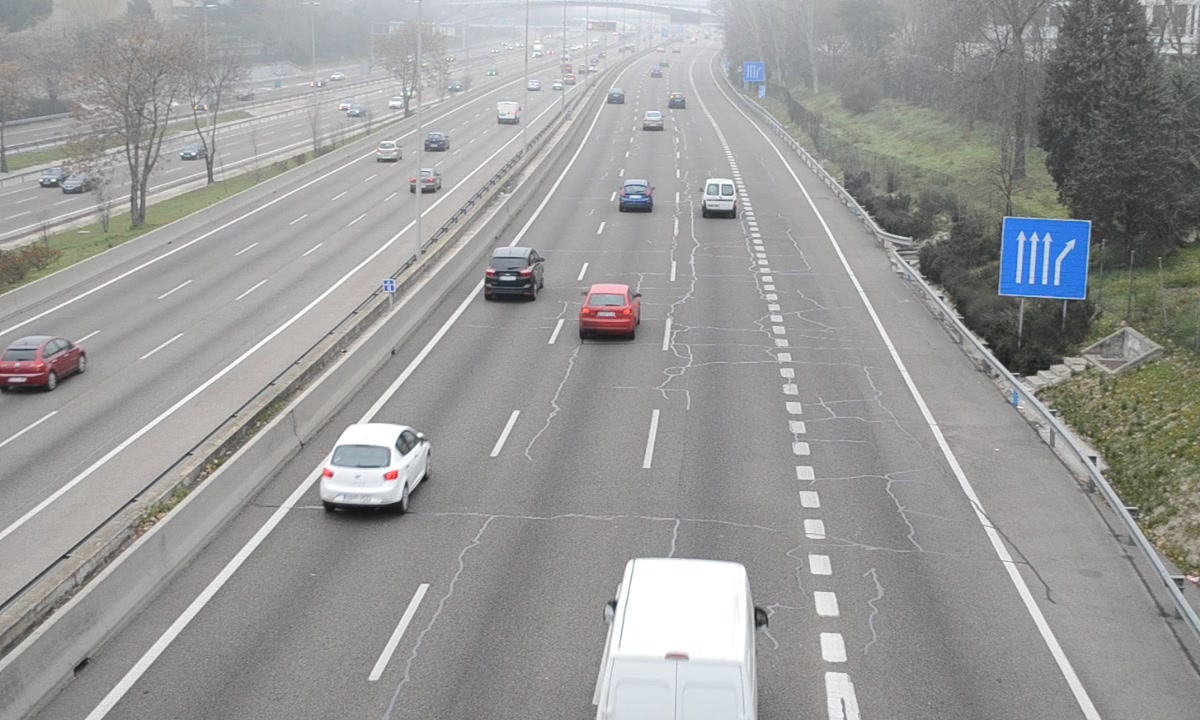car: (319, 425, 429, 505), (581, 283, 639, 337), (484, 247, 541, 299), (619, 179, 654, 214), (641, 110, 664, 132)
van: (595, 558, 760, 720), (702, 177, 737, 217)
